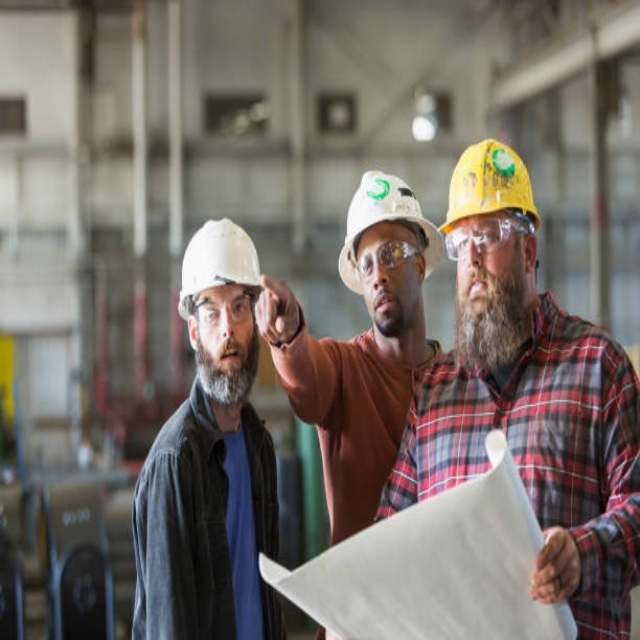Gafas: (445, 215, 532, 262), (354, 237, 421, 281), (189, 290, 257, 329)
Sin_guantes: (531, 524, 581, 603), (257, 265, 301, 348)
Sin_mascara: (211, 340, 247, 376), (461, 273, 498, 306), (369, 290, 396, 320)
